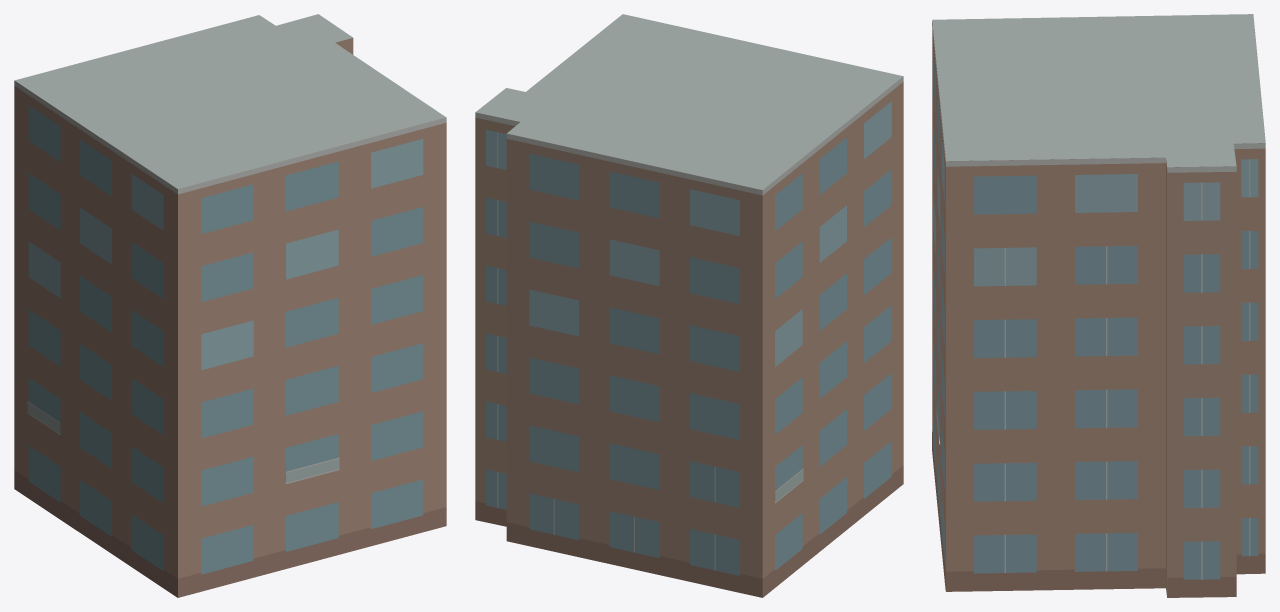
File: survey-upis-32520612.glb
3 renders of one model, left to right at view 1: azimuth 30°, elevation 25°; view 2: azimuth 150°, elevation 25°; view 3: azimuth 270°, elevation 25°, orthographic. The views are drawn at different scales.
Visible parts, largest first — view 1: survey-upis-32520612.tmp; view 2: survey-upis-32520612.tmp; view 3: survey-upis-32520612.tmp.
Boxes of the visible parts, x1,y1,x2,y2 form: survey-upis-32520612.tmp: [14, 14, 446, 597]; survey-upis-32520612.tmp: [475, 14, 903, 597]; survey-upis-32520612.tmp: [932, 14, 1265, 597].
Bounding box in the file's own units: 14.49 × 18.98 × 13.34.
